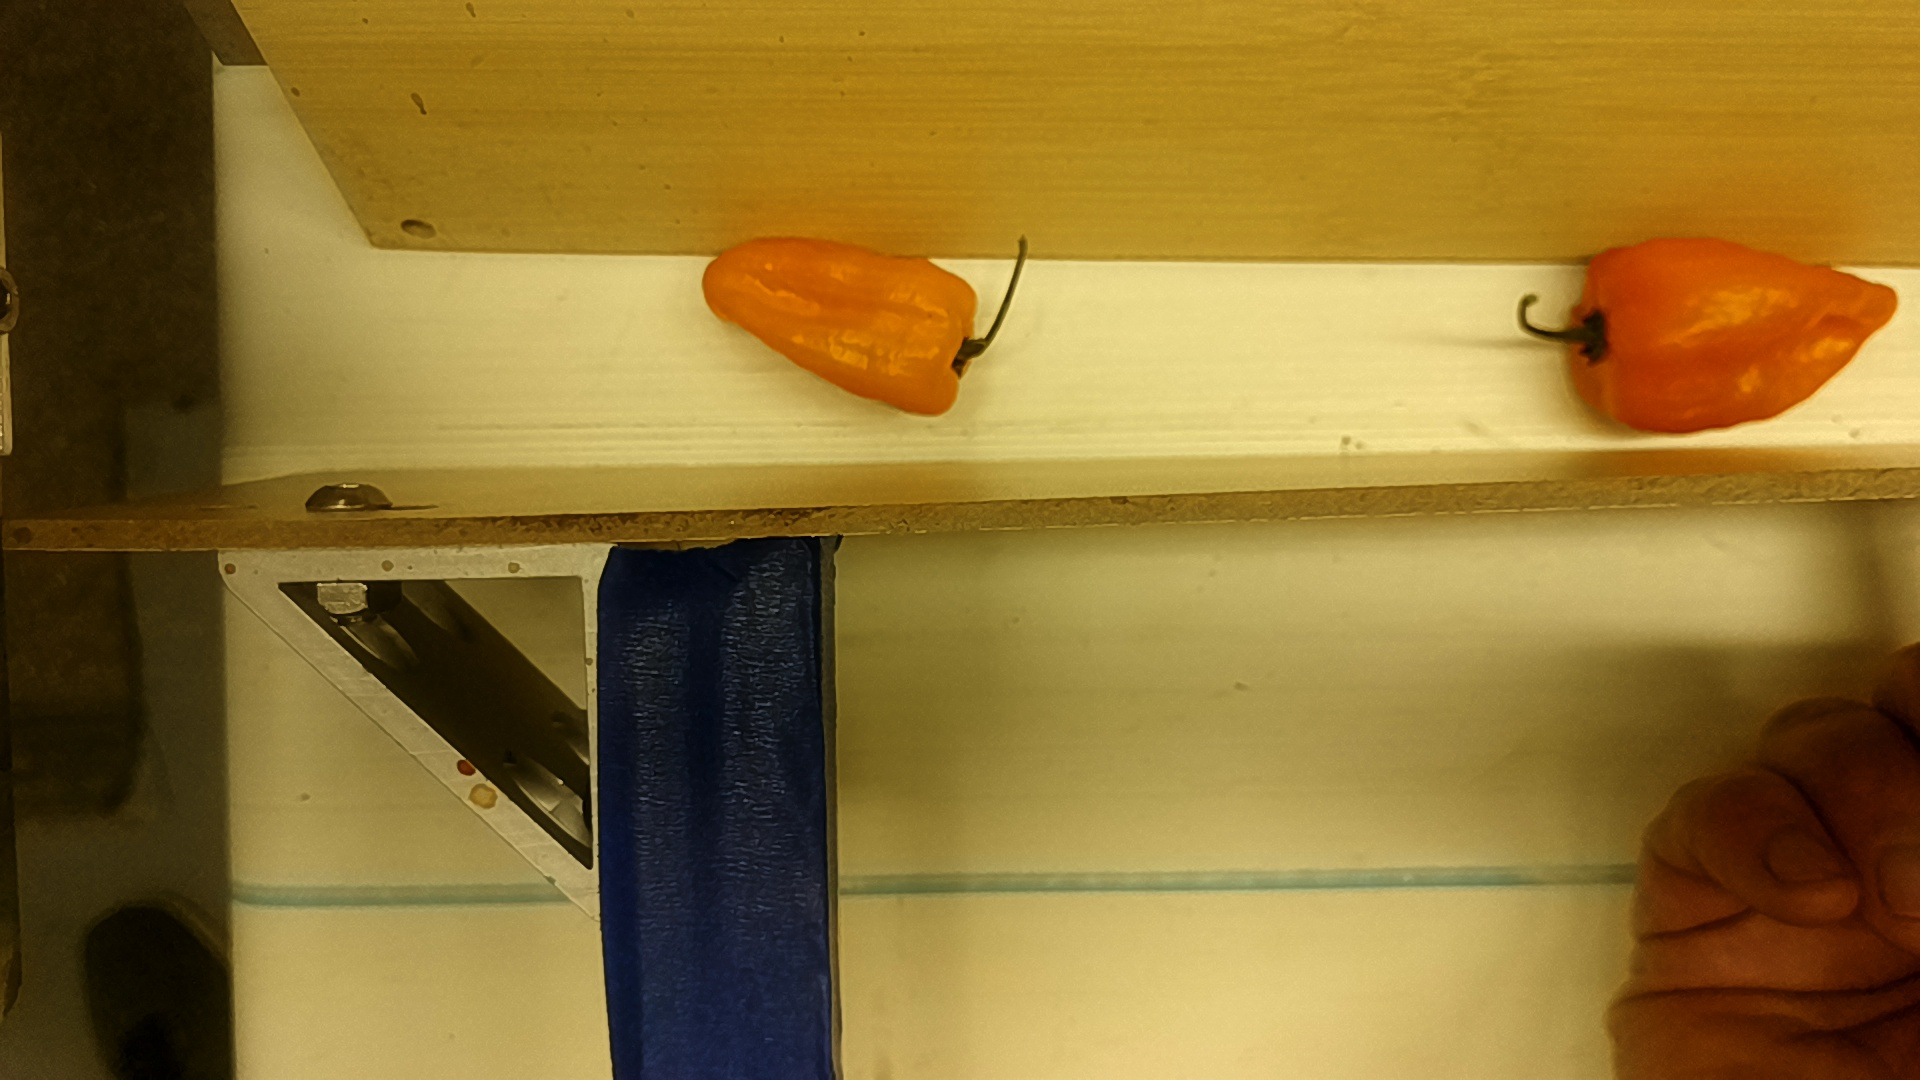Cut Point: (1572, 235, 1640, 440), (927, 260, 988, 421)
